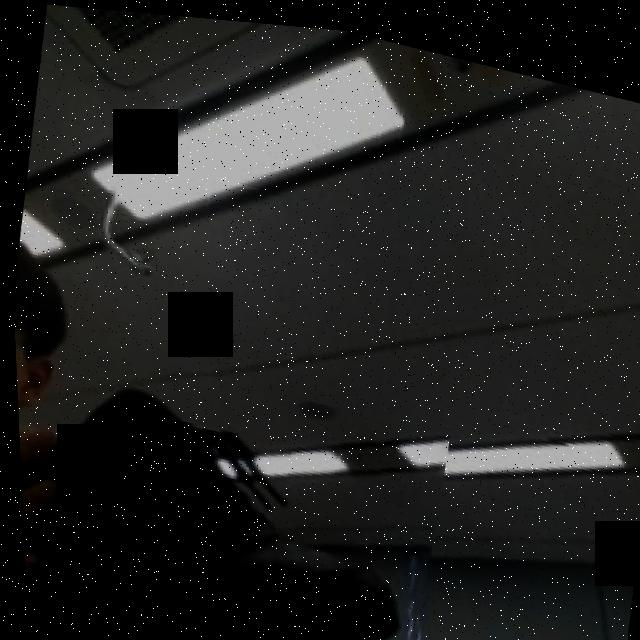shoe: (11, 328, 455, 640)
